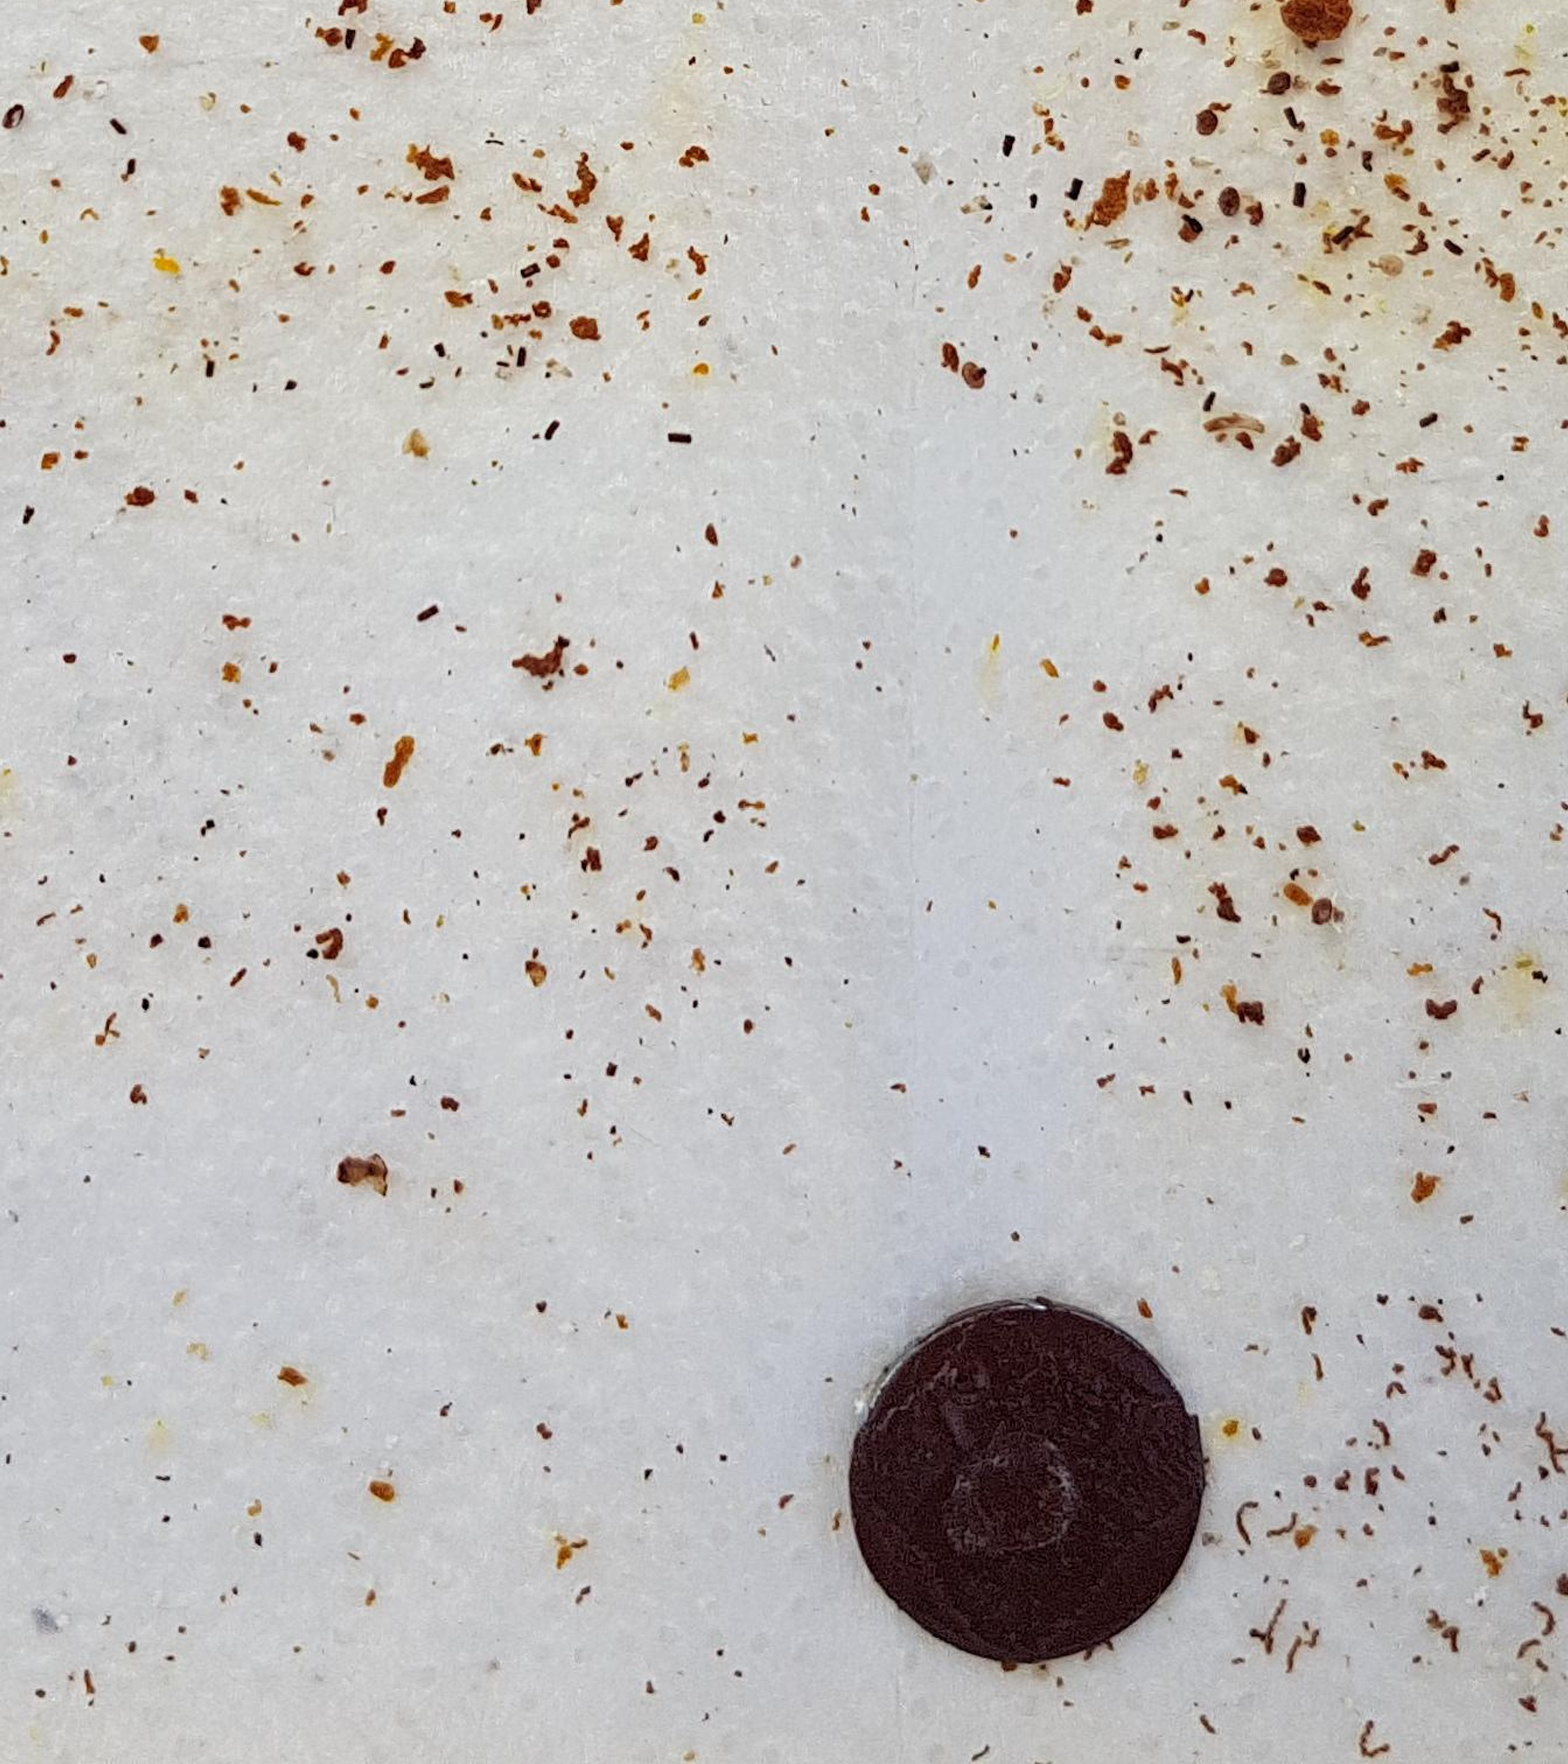Varroa: (1262, 67, 1299, 101), (1214, 183, 1252, 216), (1303, 894, 1336, 930), (1190, 107, 1221, 144), (960, 352, 991, 389)
